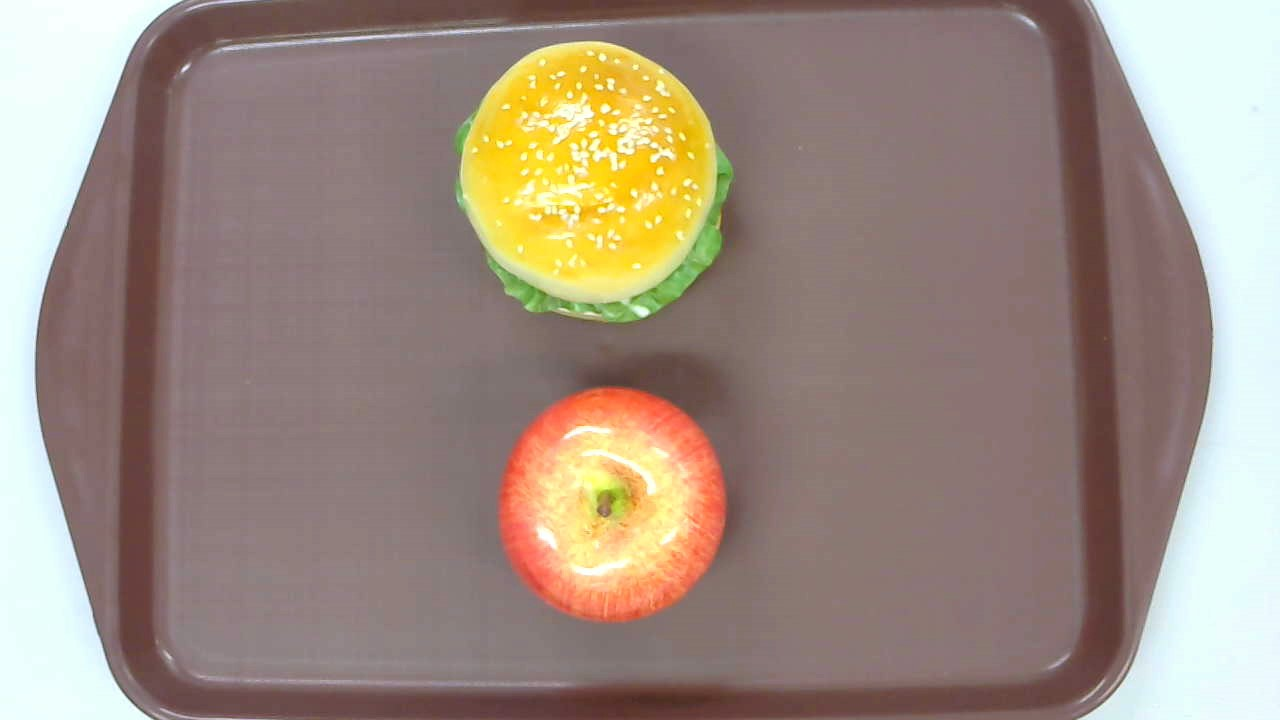hamburger: (451, 41, 736, 323)
red apple: (500, 386, 726, 623)
